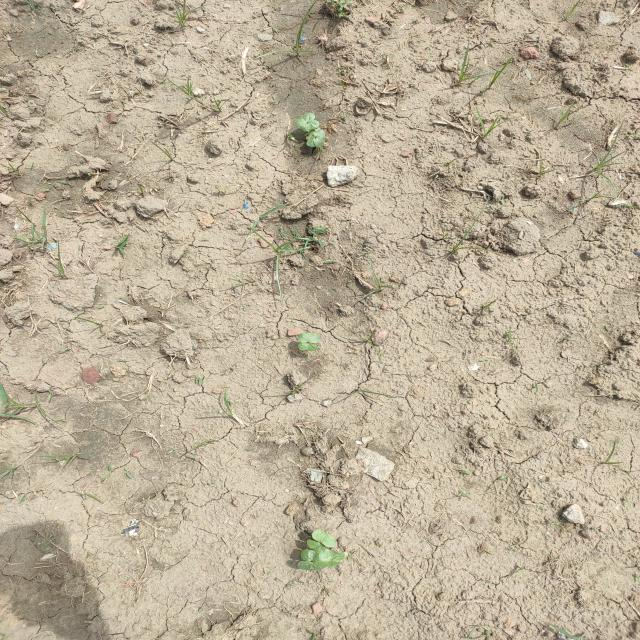seedling: (312, 529, 335, 548), (319, 549, 345, 561), (294, 113, 315, 126), (301, 549, 322, 562), (307, 540, 326, 554), (297, 332, 319, 344), (313, 129, 325, 148), (298, 561, 323, 570), (318, 560, 341, 569), (301, 121, 319, 132), (298, 343, 318, 351), (306, 136, 316, 147), (309, 129, 315, 138)
